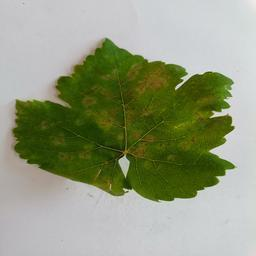Powdery-Mildew: (137, 66, 175, 96), (174, 106, 210, 135), (131, 126, 157, 158), (119, 98, 151, 122), (80, 92, 97, 109), (52, 132, 69, 149), (179, 137, 195, 154), (121, 61, 137, 77), (78, 145, 94, 161)
